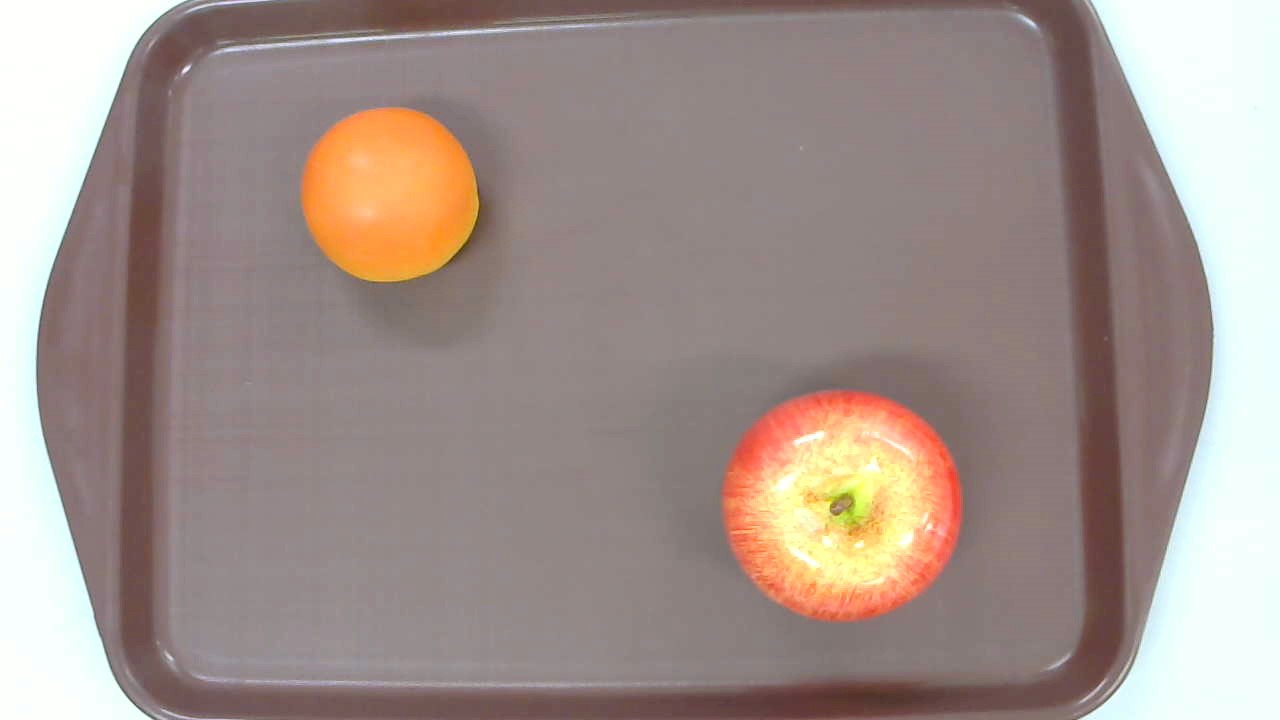bun: (300, 106, 479, 283)
red apple: (720, 389, 962, 623)
